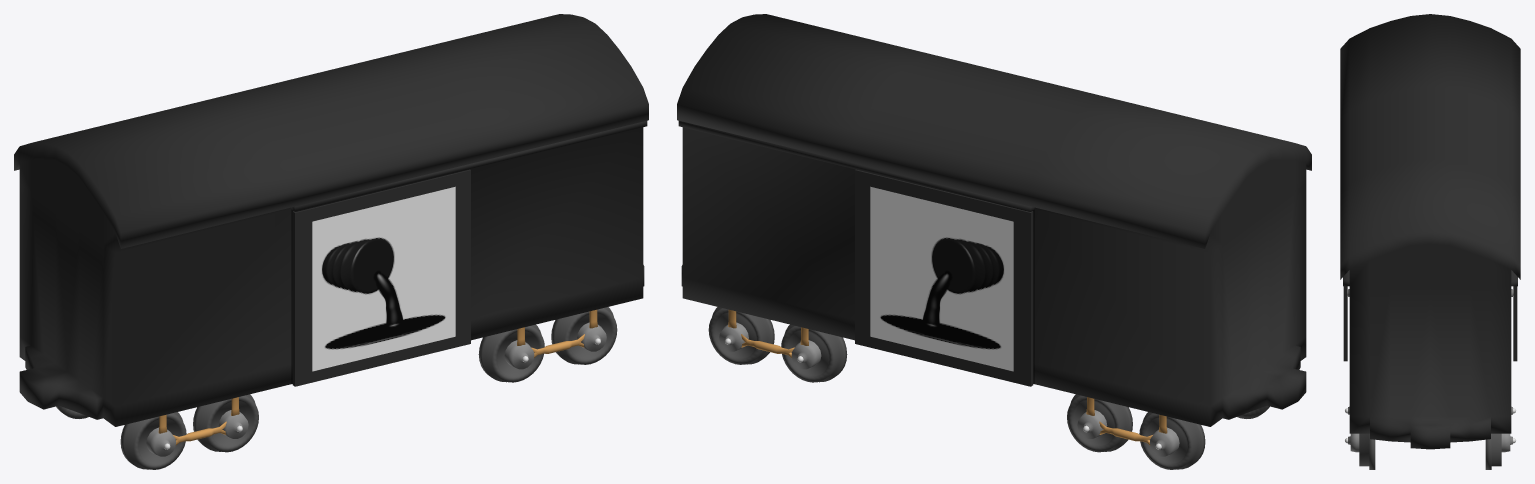
The model's file is Boxcar_Oil_Slick.dae.
3 renders of one model, left to right at view 1: azimuth 30°, elevation 25°; view 2: azimuth 150°, elevation 25°; view 3: azimuth 270°, elevation 25°, orthographic. The views are drawn at different scales.
Visible parts, largest first — view 1: Boxcar_Explosive.002; view 2: Boxcar_Explosive.002; view 3: Boxcar_Explosive.002.
Part boxes in pixels (<box>): Boxcar_Explosive.002: <box>14,14,648,469</box>; Boxcar_Explosive.002: <box>677,14,1311,469</box>; Boxcar_Explosive.002: <box>1340,14,1520,469</box>.
Bounding box in the file's own units: 4.02 × 1.23 × 1.91.
7 materials, 1 textured.
